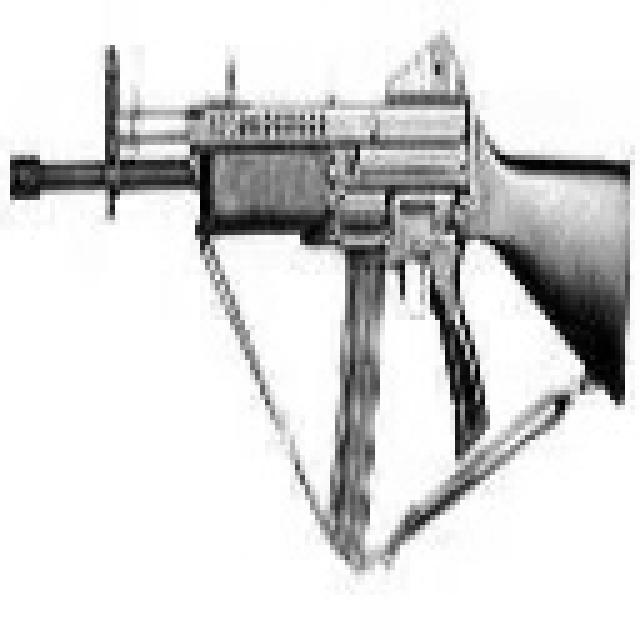Rifle: (0, 29, 640, 598)
